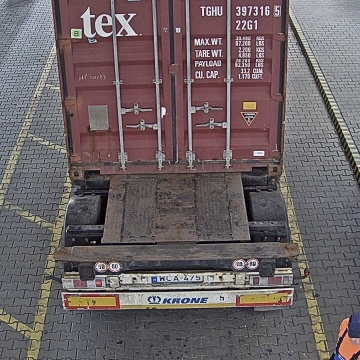serial_id: (200, 5, 280, 16)
